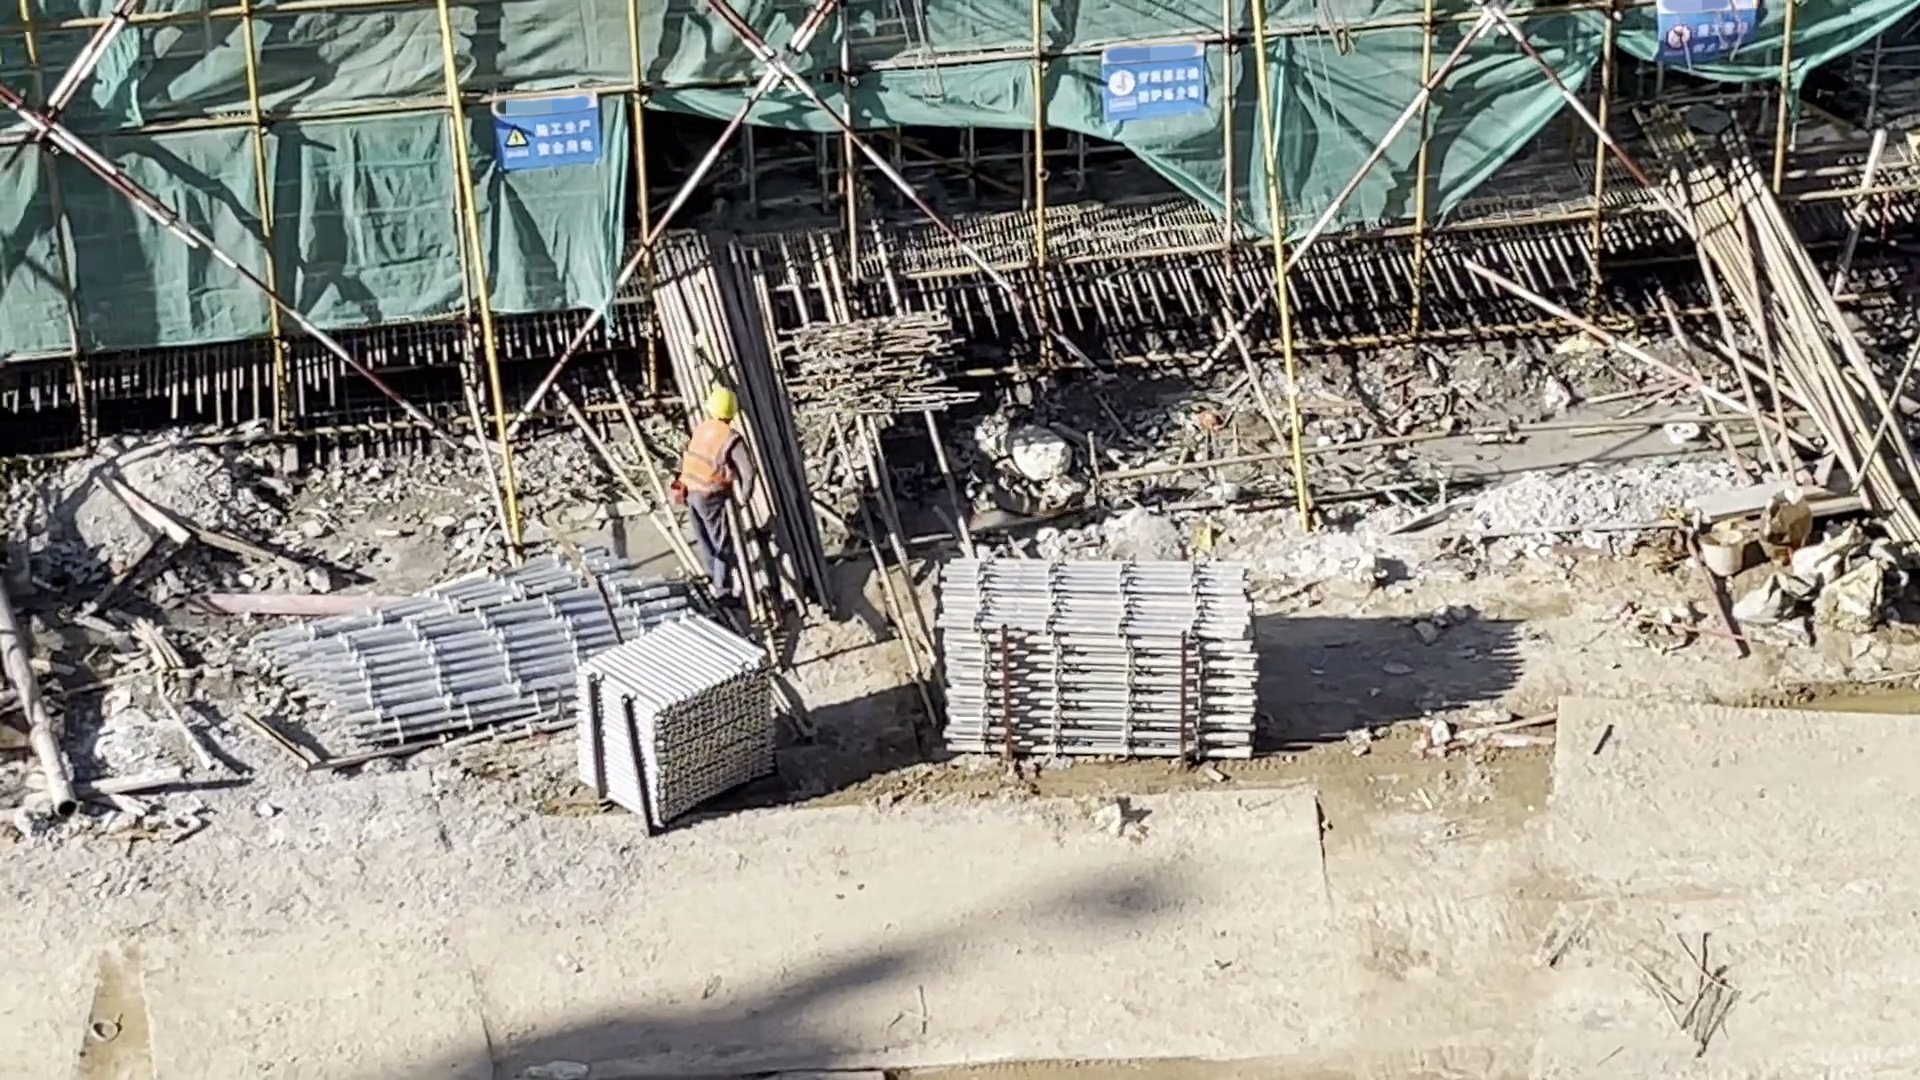helmet: (702, 383, 738, 420)
person: (673, 383, 760, 608)
scaffold: (937, 552, 1265, 769), (271, 545, 567, 749), (571, 604, 780, 835)
slogan: (497, 90, 599, 167), (1110, 46, 1208, 120), (1663, 4, 1754, 65)
vest: (676, 422, 737, 480)
